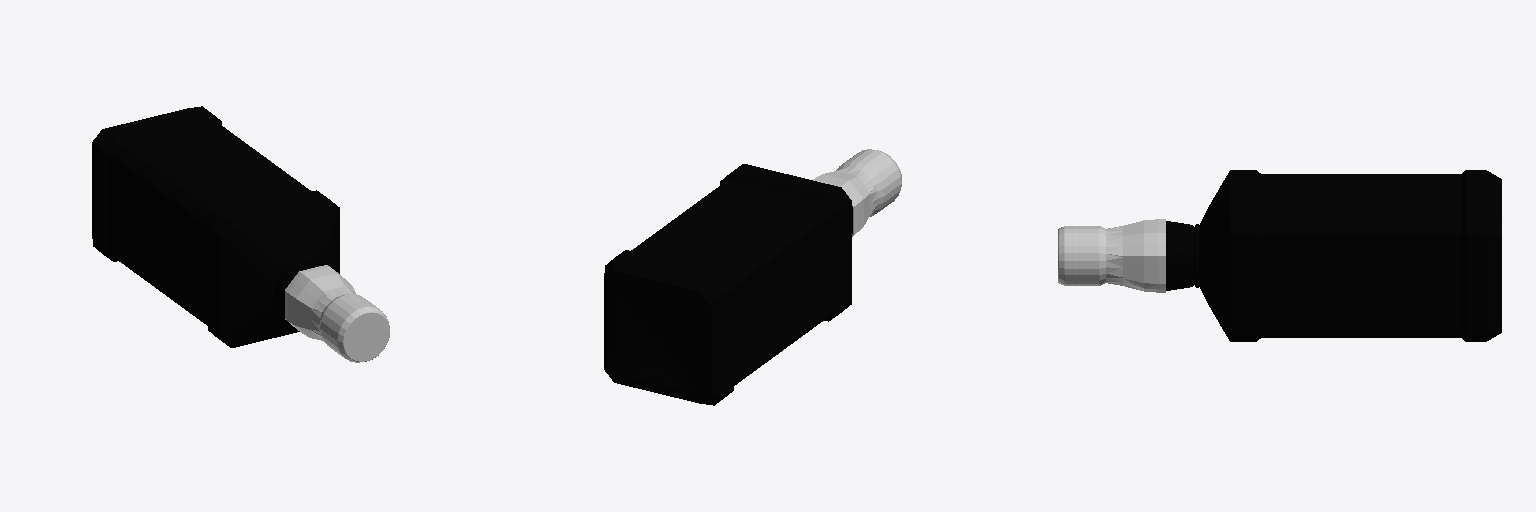
3 renders of one model, left to right at view 1: azimuth 30°, elevation 25°; view 2: azimuth 150°, elevation 25°; view 3: azimuth 270°, elevation 25°, orthographic.
Visible parts, largest first — view 1: bottle_Mesh, membrane_Mesh.001; view 2: bottle_Mesh, membrane_Mesh.001; view 3: bottle_Mesh, membrane_Mesh.001.
Boxes of the visible parts, box(x1,y1,x2,y2) form: bottle_Mesh: box(92, 106, 339, 347); membrane_Mesh.001: box(285, 265, 389, 362); bottle_Mesh: box(604, 164, 852, 405); membrane_Mesh.001: box(813, 149, 901, 236); bottle_Mesh: box(1166, 170, 1501, 341); membrane_Mesh.001: box(1058, 219, 1165, 292).
Size of the model in its own units: 0.077 by 0.077 by 0.2475.